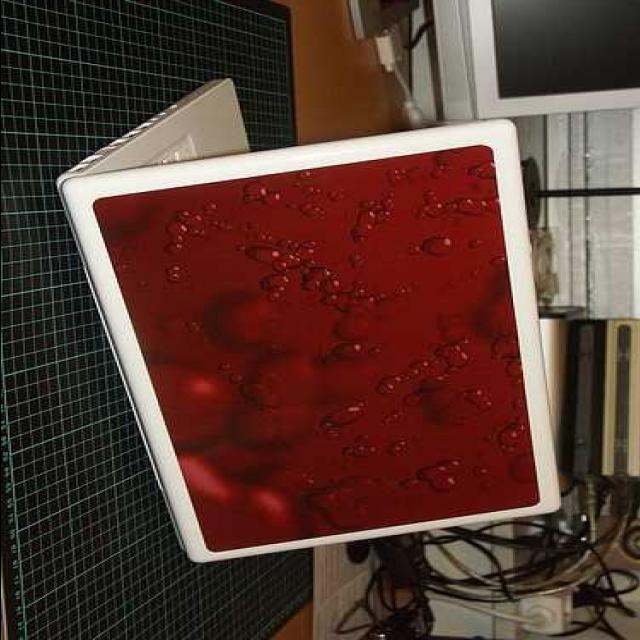laptop: (54, 80, 556, 566)
